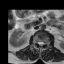CCS_normal: (39, 39, 41, 48)
LFS_normal: (44, 40, 46, 46)
LLS_normal: (41, 39, 44, 47)
RFS_normal: (36, 39, 37, 46)
RLS_normal: (37, 39, 39, 46)
